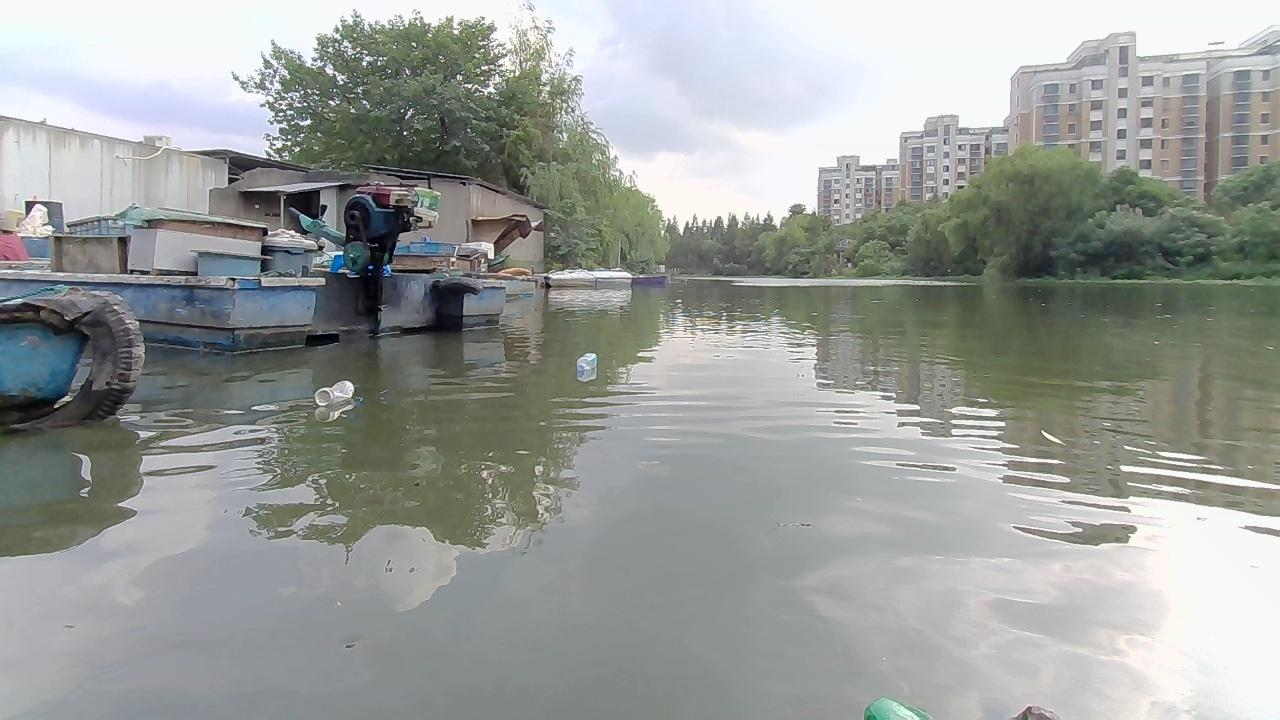bottle: (861, 691, 932, 719), (316, 375, 356, 405), (578, 348, 600, 375)
